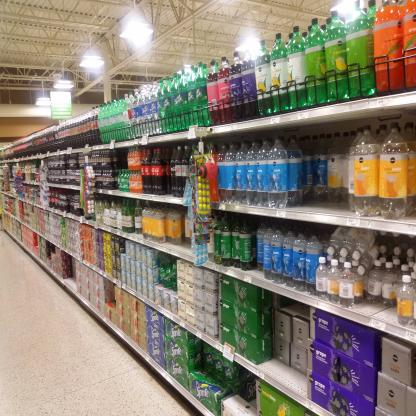Void: (291, 131, 348, 213), (265, 294, 306, 390), (362, 304, 393, 320), (118, 237, 128, 253), (118, 151, 125, 167)
